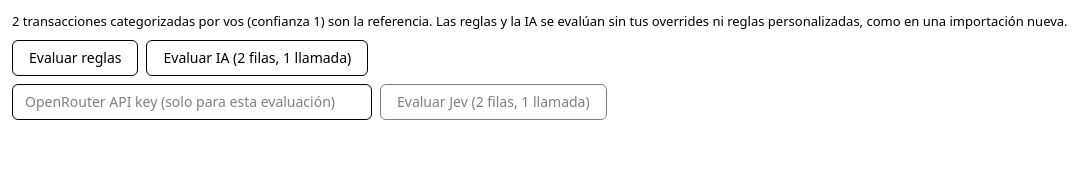
Test: CategorizerEval — failures › says why a Claude run failed in Spanish
Click the button "Evaluar IA (2 filas, 1 llamada)" at (257, 58), box [146, 40, 368, 76]
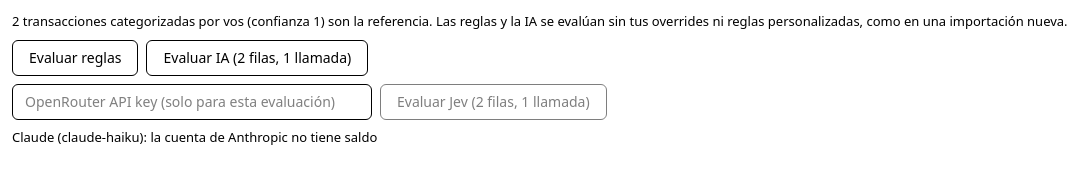
Now the text "Claude (claude-haiku): la cuenta de Anthropic no tiene saldo" is shown, box [12, 128, 377, 146]
